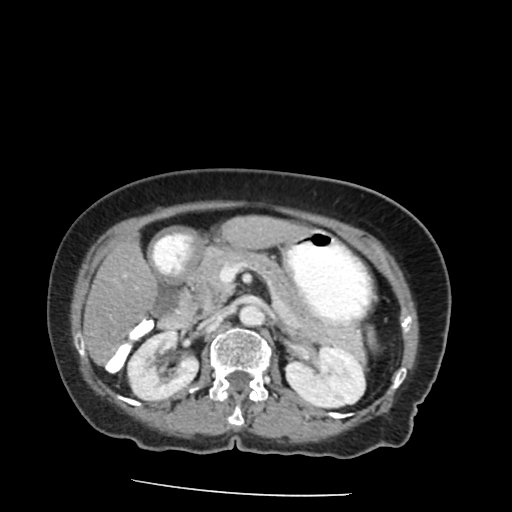aorta: (235, 300, 266, 330)
